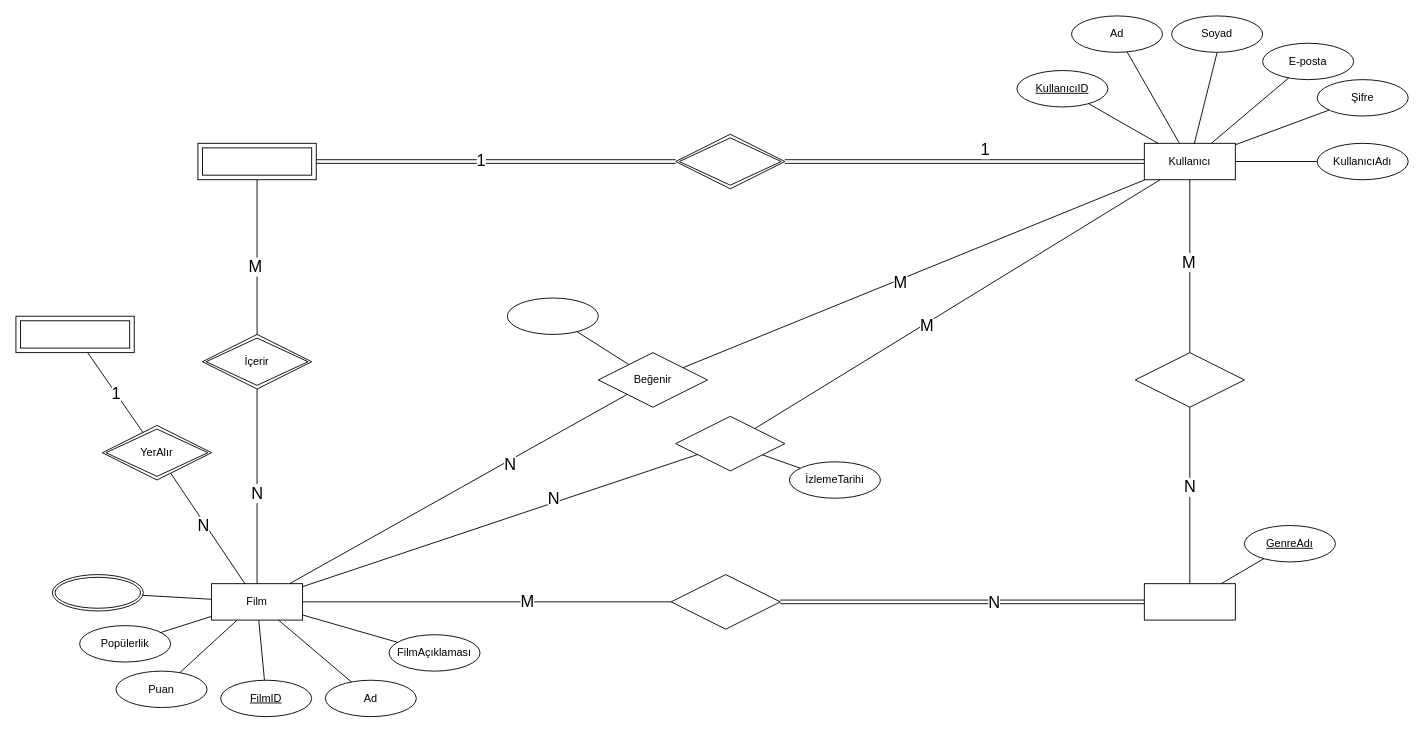
Image size: 1424x733. Some labels were removed from this diagram. The centre of each missing label's shape, as x and y in pixels:
Aittir: (x=725, y=601)
BeğenmeTarihi: (x=552, y=315)
Genre: (x=1189, y=601)
İzler: (x=730, y=443)
Oyuncular: (x=97, y=592)
PopülerFilmListesi: (x=74, y=334)
Sahiptir: (x=730, y=161)
TercihEder: (x=1189, y=379)
ÖneriFilmListesi: (x=256, y=161)
